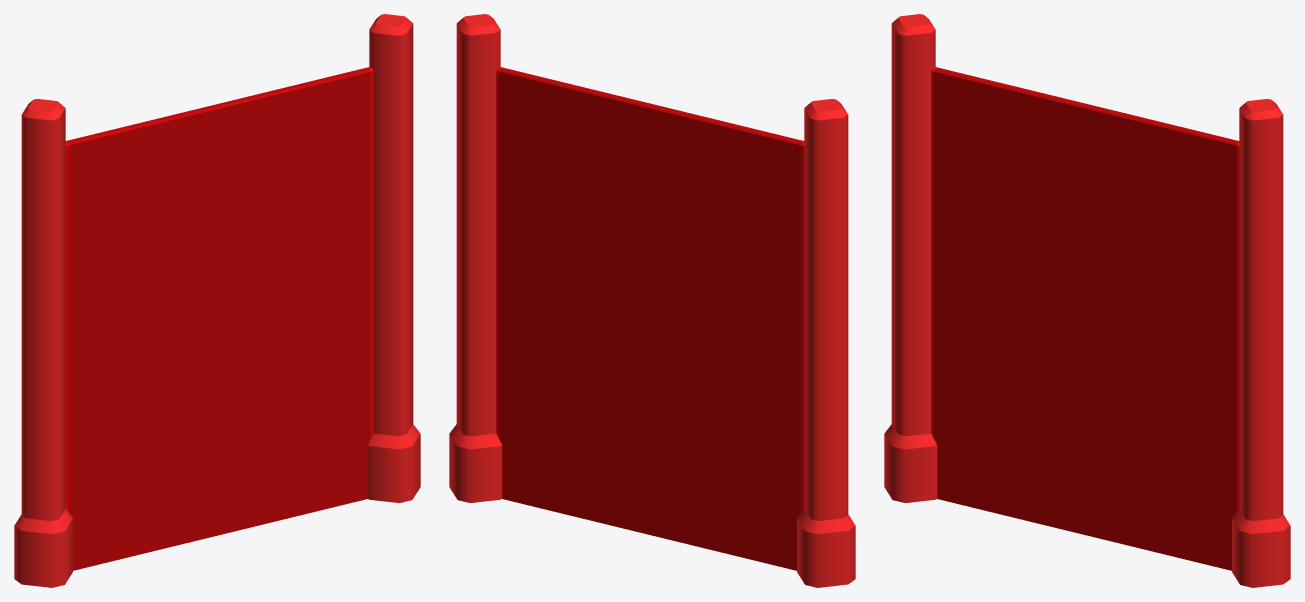
Rendered from door_obstacle (1).fbx.
3 renders of one model, left to right at view 1: azimuth 30°, elevation 25°; view 2: azimuth 150°, elevation 25°; view 3: azimuth 330°, elevation 25°, orthographic.
Visible parts, largest first — view 1: door, door_stand; view 2: door, door_stand; view 3: door, door_stand.
Part boxes in pixels (x1,y1,x2,y2): door: (65, 67, 373, 570); door_stand: (14, 14, 420, 587); door: (496, 67, 804, 570); door_stand: (449, 14, 855, 587); door: (931, 67, 1239, 570); door_stand: (884, 14, 1290, 587).
Bounding box in the file's own units: 122 × 138 × 15.73.
